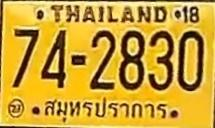0: (177, 30, 204, 90)
2: (90, 30, 115, 90)
3: (148, 30, 174, 90)
4: (40, 28, 66, 88)
7: (13, 28, 39, 88)
8: (119, 30, 144, 90)
SPK: (40, 96, 171, 123)
